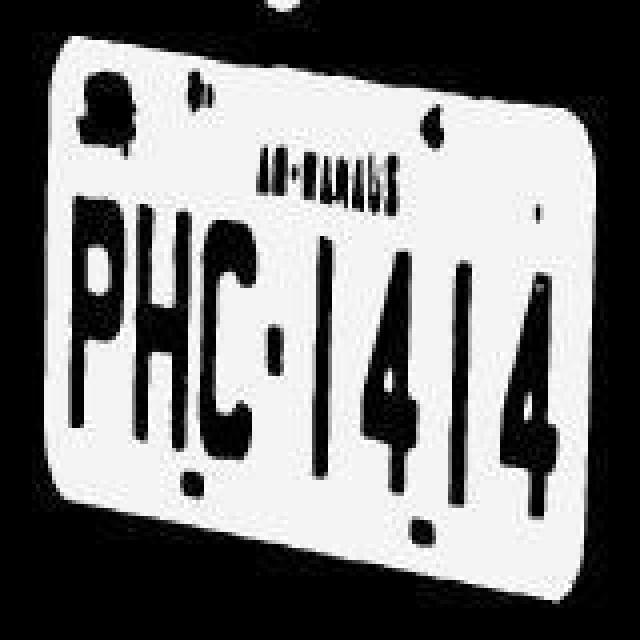1: (296, 222, 352, 498), (434, 216, 478, 512)
4: (494, 244, 570, 540), (356, 218, 428, 502)
C: (198, 208, 266, 472)
H: (126, 190, 194, 466)
P: (62, 180, 130, 460)
